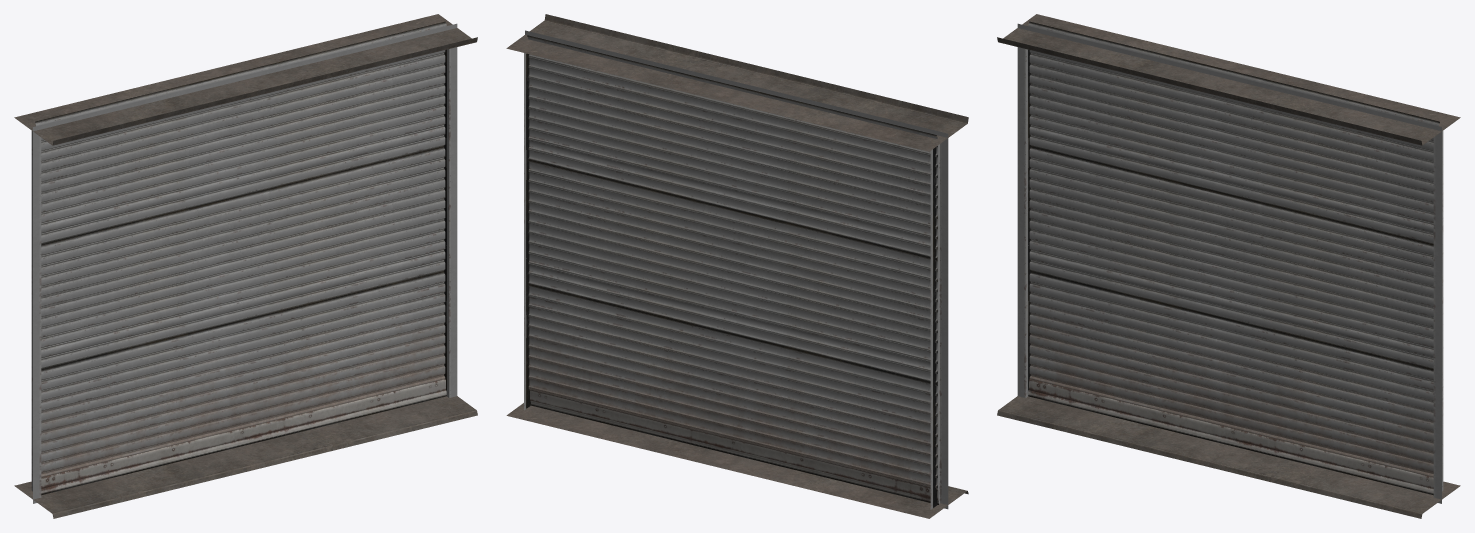
Rendered from roller-shutter-source.glb.
3 views of the same model, side by side, from view 1: azimuth 30°, elevation 25°; view 2: azimuth 150°, elevation 25°; view 3: azimuth 330°, elevation 25° (orthographic).
Visible parts, largest first — view 1: door_garage_centered_01; view 2: door_garage_centered_01; view 3: door_garage_centered_01.
Part boxes in pixels (left/top/right/bottom): door_garage_centered_01: left=14, top=14, right=477, bottom=518; door_garage_centered_01: left=506, top=14, right=968, bottom=518; door_garage_centered_01: left=997, top=14, right=1460, bottom=518.
Size of the model in its own units: 3.1 by 2.64 by 0.5.
1 material, 1 textured.
